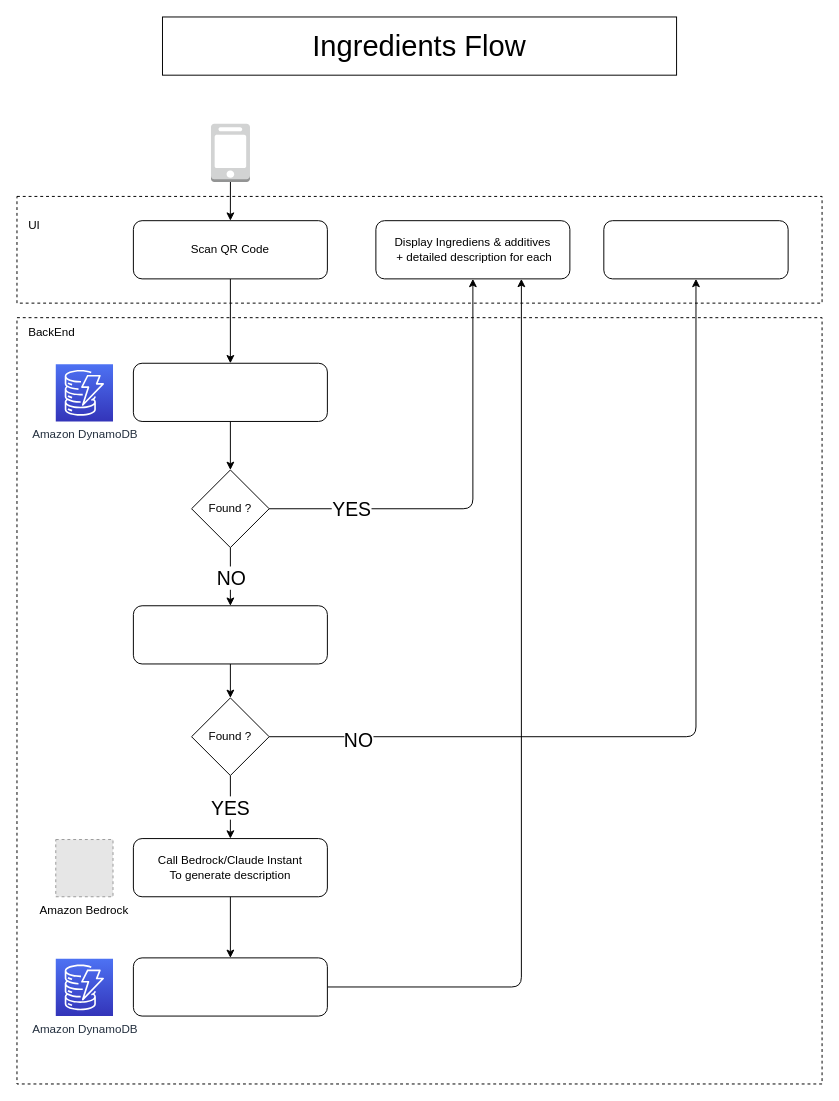
Image size: 839x1101. Some labels were removed from this diagram. Grey dashed boxes stand in for pictures. Each missing label, with the centre of its shape:
Call Open Food Facts API: the point at 229,634
Display Product Not Found: the point at 695,249
SAVE ProducCode in Local Database: the point at 229,986
Serach ProducCode in Local Database for language= {}: the point at 229,391
